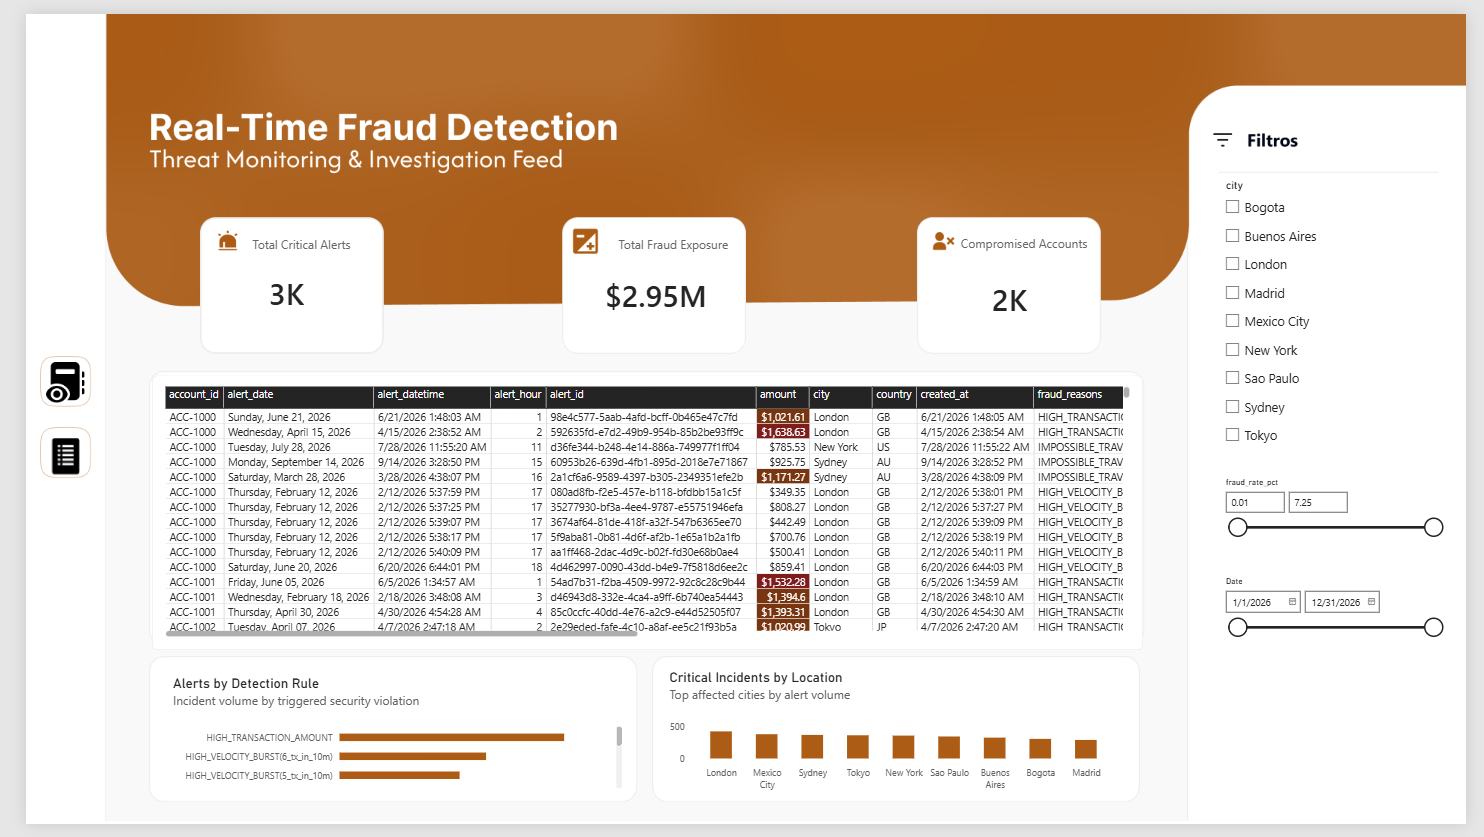

Layout of this report page (visuals, bound fields, positions):
{"tool":"powerbi","page":{"name":"Monitoring","canvas":[1920,1080],"ordinal":1},"visuals":[{"type":"image","box":[25.6,464.4,53.3,54.4],"z":0},{"type":"image","box":[26,561,54,55],"z":1000},{"type":"textbox","box":[255.6,296.7,200,38.9],"z":2000},{"type":"cardVisual","fields":{"Data":["_Measures.Total Critical Alerts"]},"box":[308.9,335.6,92.2,71.1],"z":3000},{"type":"cardVisual","fields":{"Data":["_Measures.Total Fraud Amount"]},"box":[756.7,333.3,173.3,80],"z":4000},{"type":"textbox","box":[743.3,296.7,200,38.9],"z":5000},{"type":"textbox","box":[1230,294.4,201.7,38.3],"z":6000},{"type":"cardVisual","fields":{"Data":["_Measures.Compromised Accounts PM"]},"box":[1271.7,341.7,97.8,73.3],"z":7000},{"type":"tableEx","fields":{"Values":["Fraud Alerts.account_id","Fraud Alerts.alert_date","Fraud Alerts.alert_datetime","Fraud Alerts.alert_hour","Fraud Alerts.alert_id","Fraud Alerts.amount","Fraud Alerts.city","Fraud Alerts.country","Fraud Alerts.created_at","Fraud Alerts.fraud_reasons","Fraud Alerts.latitude","Fraud Alerts.longitude"]},"box":[167.5,481.2,1321.2,366.2],"z":8000},{"type":"clusteredBarChart","title":"Alerts by Detection Rule","fields":{"Category":["Por Motivo.fraud_rule"],"Y":["Sum(Por Motivo.triggered_occurrences)"]},"box":[179,867.3,630.9,180.8],"z":8001},{"type":"clusteredColumnChart","title":"Critical Incidents by Location","fields":{"Category":["Geo Risk.city"],"Y":["Sum(Geo Risk.fraud_count)"]},"box":[843,860.4,627.5,194.7],"z":8002},{"type":"slicer","fields":{"Values":["Geo Risk.city"]},"box":[1592.1,219,300.7,375.4],"z":8003},{"type":"slicer","fields":{"Values":["gold_vw_kpi_daily.fraud_rate_pct"]},"box":[1592.1,617,300.7,113],"z":8004},{"type":"slicer","fields":{"Values":["Dim_Calendar.Date"]},"box":[1592.1,749.1,300.7,118.2],"z":8005}]}

Visuals, with their boxes on the page's 1920x1080 design canvas (x1, y1, x2, y2). These are canvas units, not pixel positions in the 1484x837 screenshot, which may show the page scaled, cropped or inside an application window:
image: locate(26, 464, 79, 519)
image: locate(26, 561, 80, 616)
textbox: locate(256, 297, 456, 336)
cardVisual - _Measures.Total Critical Alerts: locate(309, 336, 401, 407)
cardVisual - _Measures.Total Fraud Amount: locate(757, 333, 930, 413)
textbox: locate(743, 297, 943, 336)
textbox: locate(1230, 294, 1432, 333)
cardVisual - _Measures.Compromised Accounts PM: locate(1272, 342, 1370, 415)
tableEx - Fraud Alerts.account_id x Fraud Alerts.alert_date: locate(168, 481, 1489, 847)
"Alerts by Detection Rule" clusteredBarChart: locate(179, 867, 810, 1048)
"Critical Incidents by Location" clusteredColumnChart: locate(843, 860, 1470, 1055)
slicer - Geo Risk.city: locate(1592, 219, 1893, 594)
slicer - gold_vw_kpi_daily.fraud_rate_pct: locate(1592, 617, 1893, 730)
slicer - Dim_Calendar.Date: locate(1592, 749, 1893, 867)
